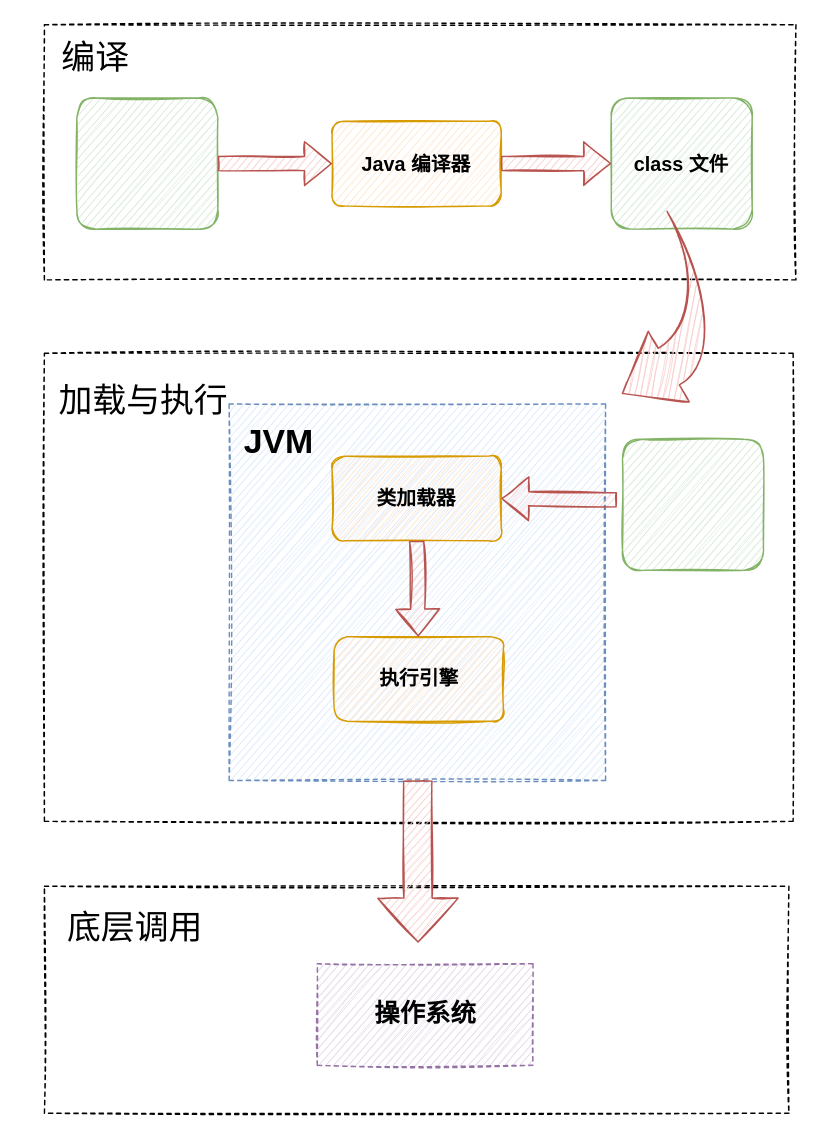
Some shapes in this 821 by 1138 pixel diagram are drawn without their labels. The shapes that lost their labels are listed below. From the top down, each one's box as (x1, y1, x2, y2) in pixels, then its label:
(75, 97, 218, 229): Java 文件
(621, 438, 764, 570): JAVA API class 文件
